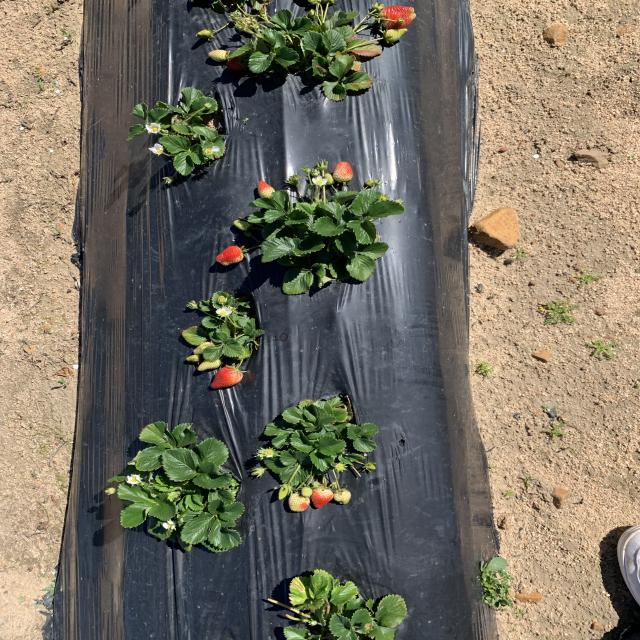unripe: (208, 363, 248, 392), (378, 6, 416, 29), (216, 246, 244, 265), (312, 488, 334, 508), (334, 162, 354, 182), (226, 58, 248, 72)
